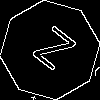Z: (25, 25, 77, 80)
